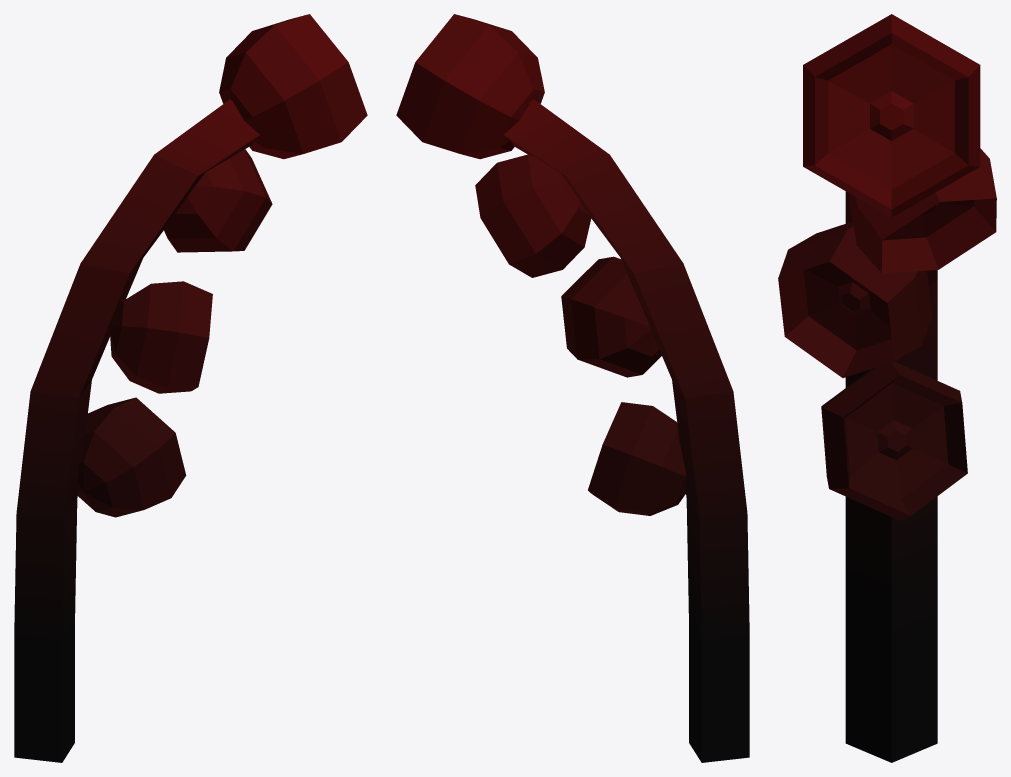
File: SM_ValleyLily_Var1.fbx
3 views of the same model, side by side, from view 1: azimuth 30°, elevation 25°; view 2: azimuth 150°, elevation 25°; view 3: azimuth 270°, elevation 25° (orthographic). The views are drawn at different scales.
Visible parts, largest first — view 1: SM_ValleyLily_Var1; view 2: SM_ValleyLily_Var1; view 3: SM_ValleyLily_Var1.
Boxes of the visible parts, x1,y1,x2,y2 form: SM_ValleyLily_Var1: [14, 14, 367, 762]; SM_ValleyLily_Var1: [396, 14, 749, 762]; SM_ValleyLily_Var1: [778, 14, 996, 762].
Size of the model in its own units: 27.45 by 52.79 by 11.89.
